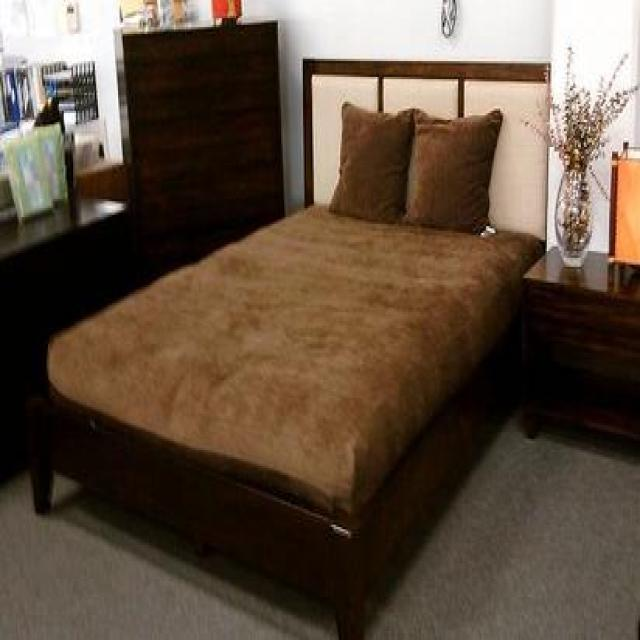bed: (26, 54, 550, 640)
